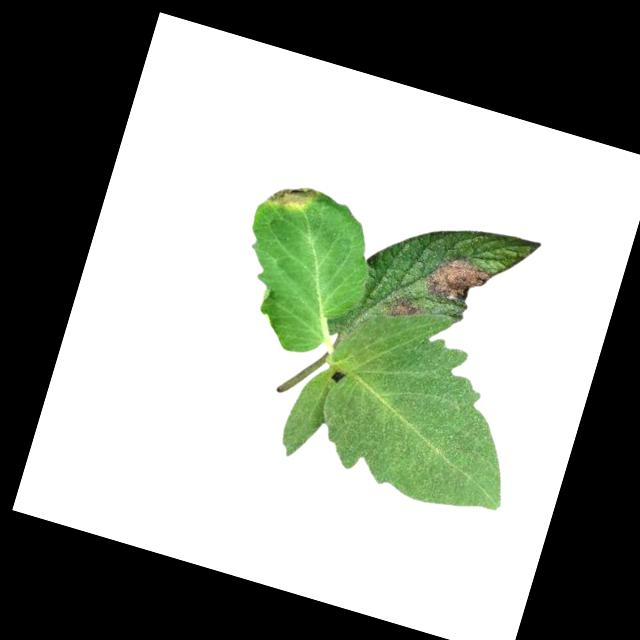Late_blight: (420, 247, 495, 314), (262, 174, 320, 218), (384, 292, 425, 326)
healthy: (294, 286, 548, 524)
